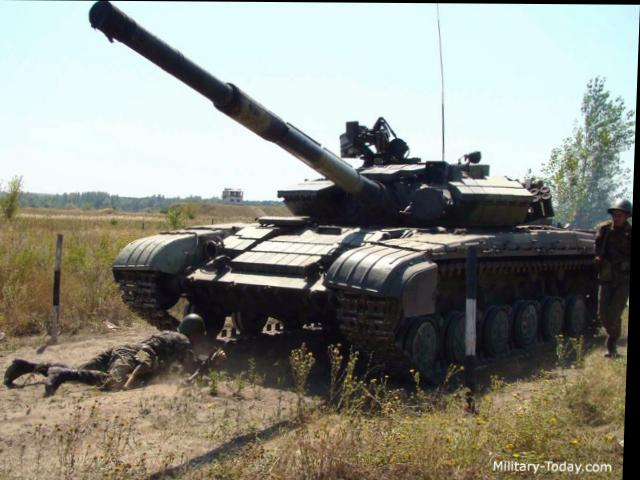other: (10, 311, 230, 396), (592, 199, 634, 352)
tank: (121, 113, 600, 354)
